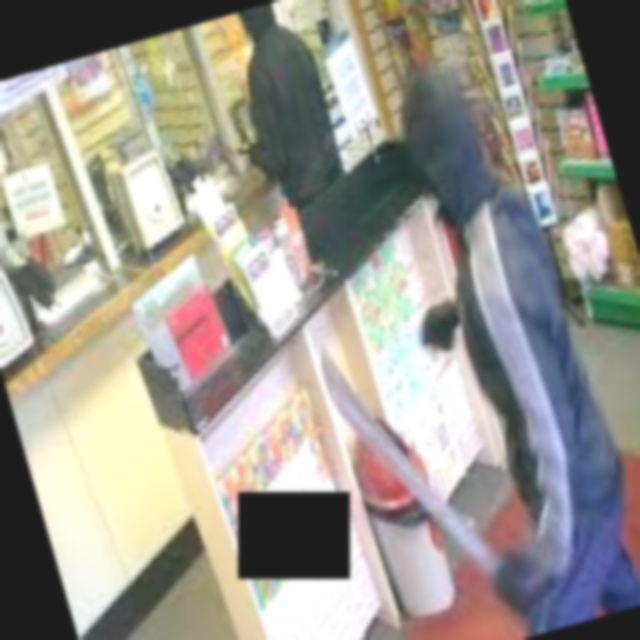gun: (299, 303, 507, 616)
